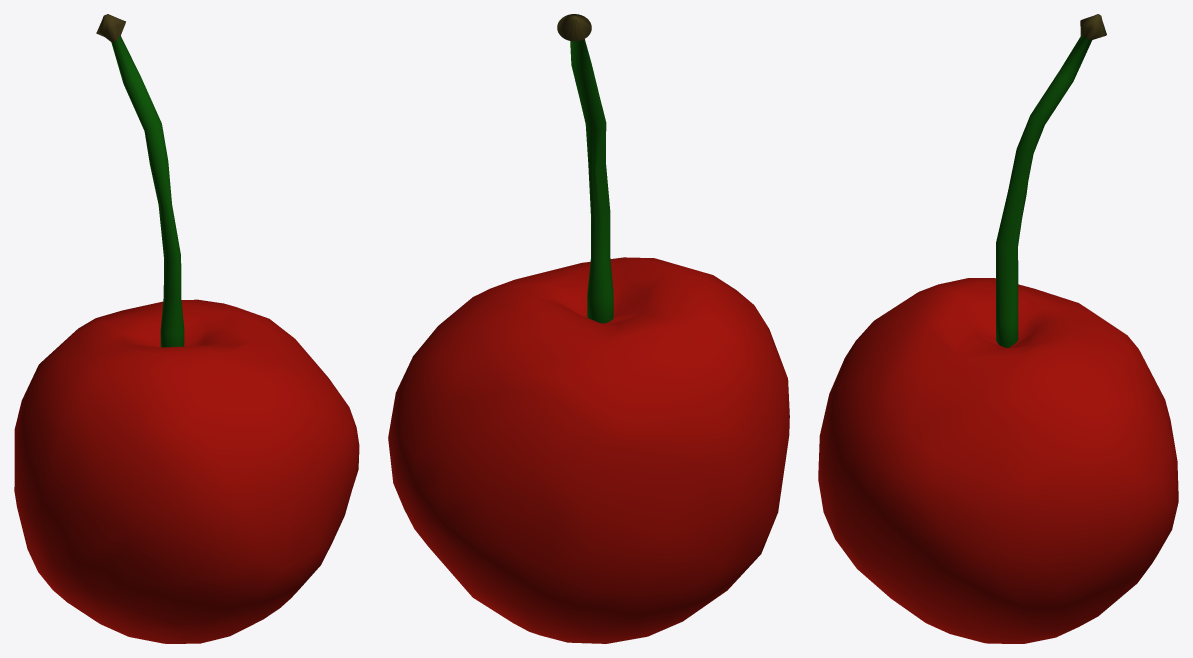
File: Cherry.fbx
3 renders of one model, left to right at view 1: azimuth 30°, elevation 25°; view 2: azimuth 150°, elevation 25°; view 3: azimuth 270°, elevation 25°, orthographic. The views are drawn at different scales.
Parts seen in each view (by area): view 1: Sphere, Cylinder; view 2: Sphere, Cylinder; view 3: Sphere, Cylinder.
Boxes of the visible parts, <box> form: Sphere: <box>14,299,359,643</box>; Cylinder: <box>96,14,184,347</box>; Sphere: <box>388,257,789,643</box>; Cylinder: <box>557,14,613,323</box>; Sphere: <box>818,278,1178,643</box>; Cylinder: <box>996,14,1106,347</box>.
Size of the model in its own units: 216 by 391 by 213.
